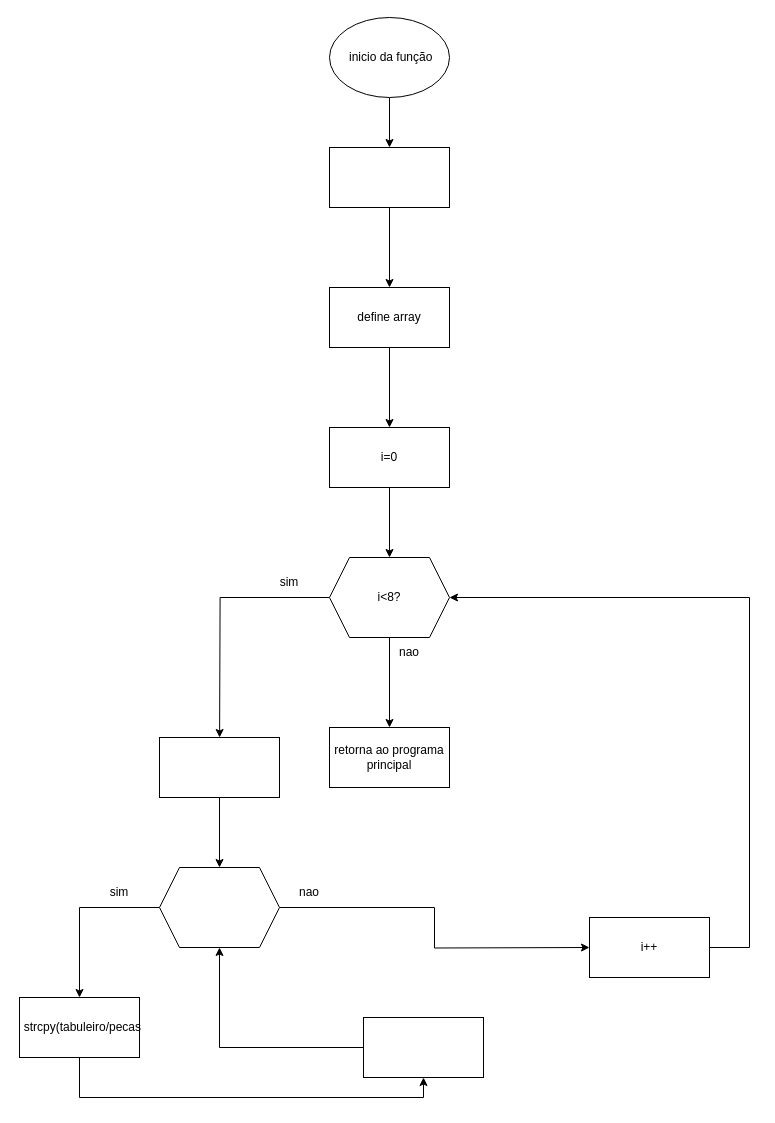
Some shapes in this 775 by 1123 pixel diagram are drawn without their labels. Each missing label, with the box of its shape:
inicializarTabuleiro: (328, 146, 450, 208)
j++: (362, 1016, 484, 1078)
j<8?: (158, 866, 280, 948)
j=0: (158, 736, 280, 798)
